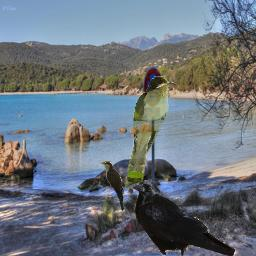Crow: (131, 180, 236, 256)
Cuckoo: (125, 76, 176, 190), (100, 161, 125, 212)
